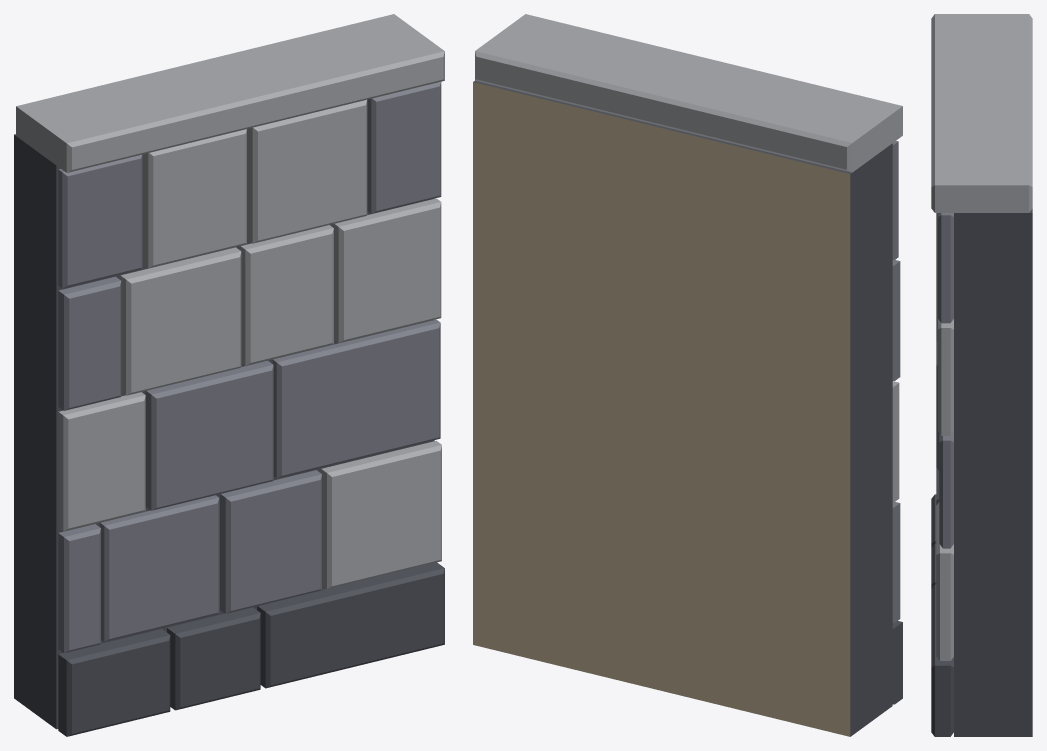
The model's file is WallStraight_14.glb.
The picture shows the model from 3 angles, left to right: view 1: azimuth 30°, elevation 25°; view 2: azimuth 150°, elevation 25°; view 3: azimuth 270°, elevation 25°; orthographic projection. The views are drawn at different scales.
Visible parts, largest first — view 1: WallStraight_14; view 2: WallStraight_14; view 3: WallStraight_14.
Part boxes in pixels (bbox=[...]): WallStraight_14: bbox=[14, 14, 444, 736]; WallStraight_14: bbox=[473, 14, 902, 736]; WallStraight_14: bbox=[931, 14, 1032, 736].
Bounding box in the file's own units: 8 × 12 × 2.
